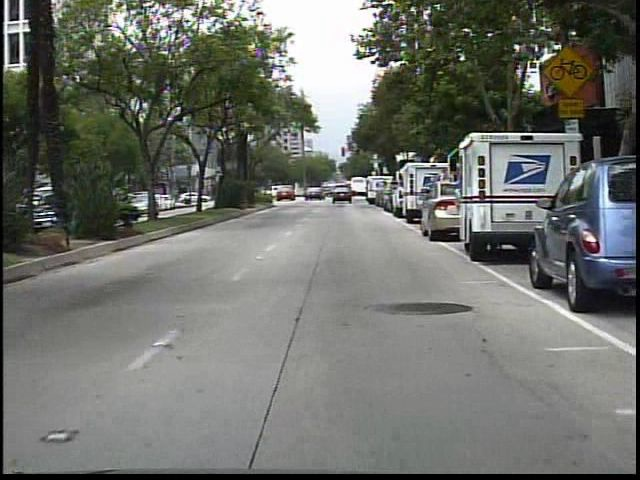person: (342, 183, 356, 203)
